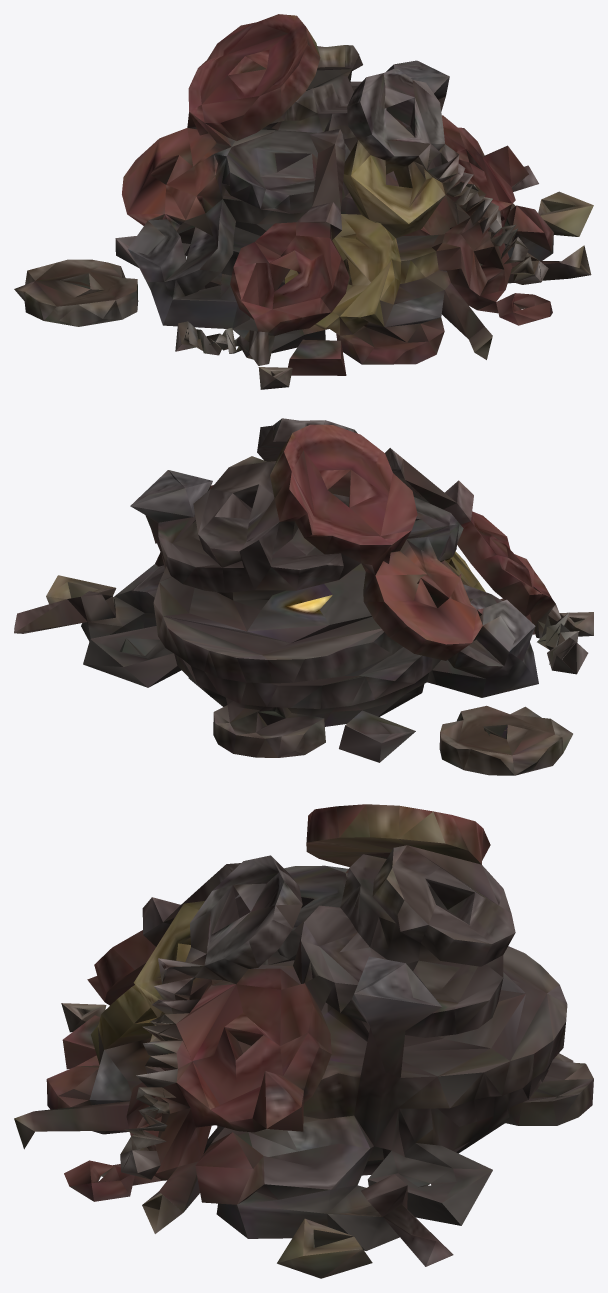
The model's file is part_mech_shesterni_idle.glb.
3 views of the same model, one above another, from view 1: azimuth 30°, elevation 25°; view 2: azimuth 150°, elevation 25°; view 3: azimuth 270°, elevation 25° (orthographic). The views are drawn at different scales.
Visible parts, largest first — view 1: tripo_node_fe337bb3-bc59-4c32-8ddb-2ec754cecb7e; view 2: tripo_node_fe337bb3-bc59-4c32-8ddb-2ec754cecb7e; view 3: tripo_node_fe337bb3-bc59-4c32-8ddb-2ec754cecb7e.
Boxes of the visible parts, bbox=[...] form: tripo_node_fe337bb3-bc59-4c32-8ddb-2ec754cecb7e: bbox=[14, 14, 593, 389]; tripo_node_fe337bb3-bc59-4c32-8ddb-2ec754cecb7e: bbox=[14, 418, 593, 775]; tripo_node_fe337bb3-bc59-4c32-8ddb-2ec754cecb7e: bbox=[14, 804, 593, 1278].
Size of the model in its own units: 0.1481 by 0.0677 by 0.1123.
Materials: 1 (1 with a texture image).
